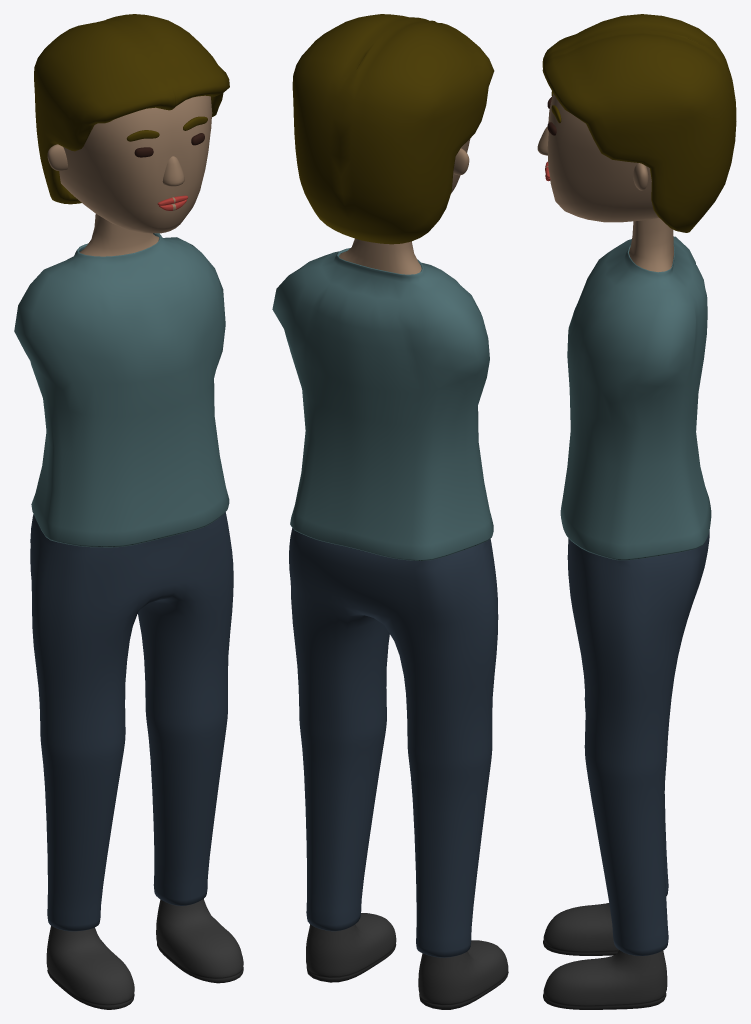
File: personajePacienteCuerpo.fbx
The picture shows the model from 3 angles, left to right: view 1: azimuth 30°, elevation 25°; view 2: azimuth 150°, elevation 25°; view 3: azimuth 270°, elevation 25°; orthographic projection. The views are drawn at different scales.
Parts seen in each view (by area): view 1: cuerpo; view 2: cuerpo; view 3: cuerpo.
Boxes of the visible parts, <box> form: cuerpo: <box>14,14,243,1009</box>; cuerpo: <box>272,14,508,1009</box>; cuerpo: <box>537,14,736,1009</box>.
Bounding box in the file's own units: 157 × 698 × 133.
